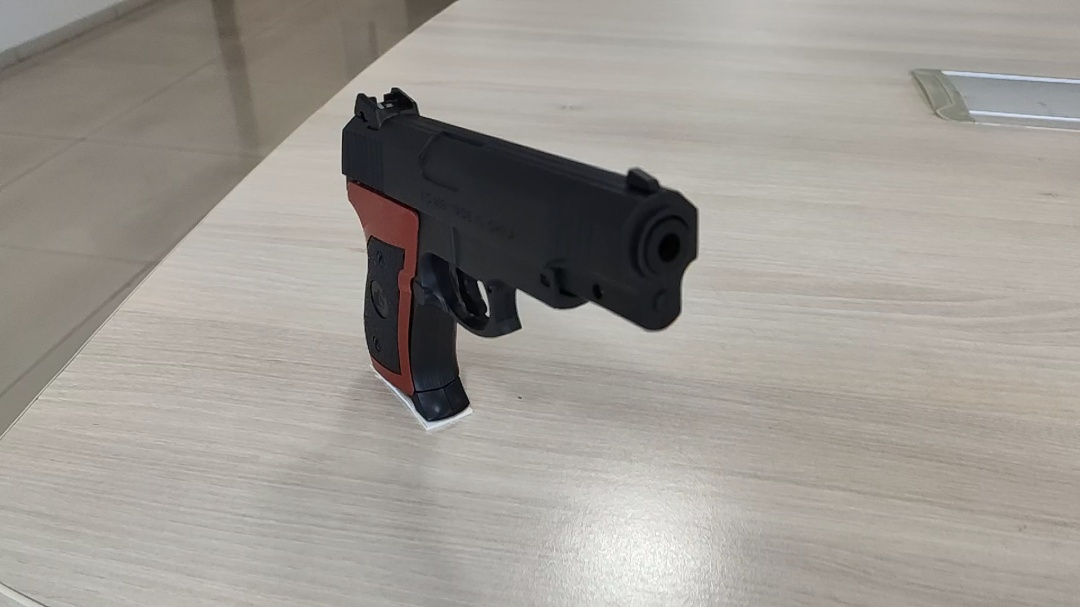gun: (339, 85, 702, 424)
